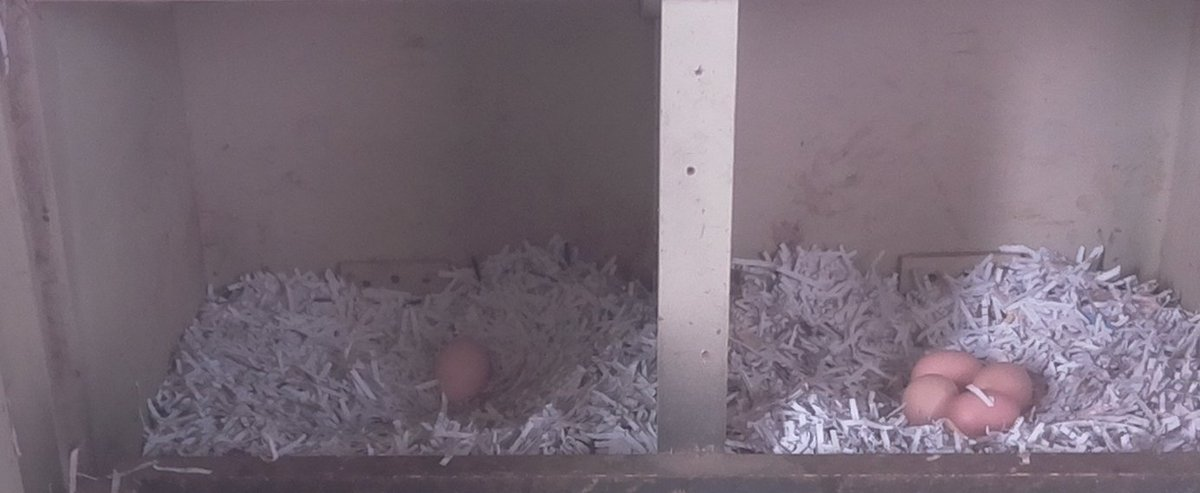egg: (430, 337, 493, 412), (945, 387, 1023, 437), (965, 360, 1036, 404), (898, 373, 959, 423), (907, 349, 985, 379)
